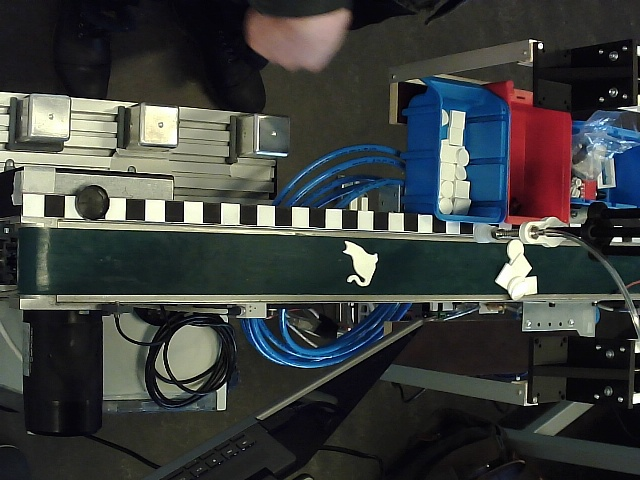cat: (342, 239, 379, 287)
